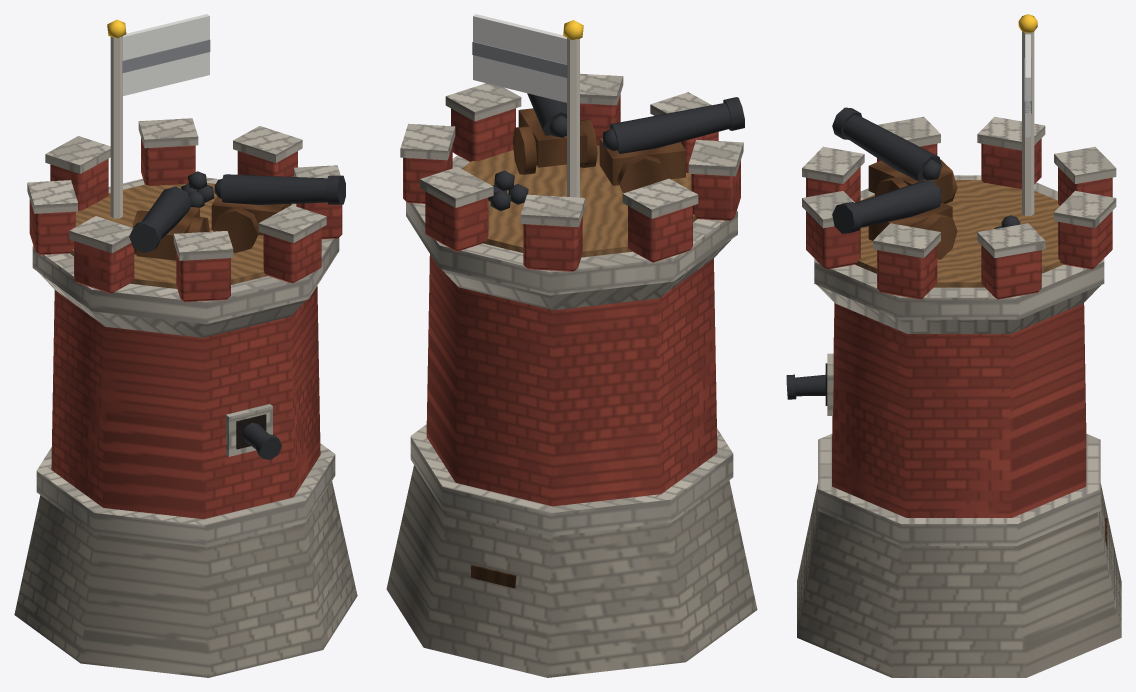
Rendered from tower_l4.glb.
3 renders of one model, left to right at view 1: azimuth 30°, elevation 25°; view 2: azimuth 150°, elevation 25°; view 3: azimuth 270°, elevation 25°, orthographic. The views are drawn at different scales.
Visible parts, largest first — view 1: tower_l4; view 2: tower_l4; view 3: tower_l4.
Part boxes in pixels (x1=…): tower_l4: x1=14, y1=14, x2=357, y2=677; tower_l4: x1=386, y1=14, x2=757, y2=677; tower_l4: x1=786, y1=14, x2=1121, y2=677.
Size of the model in its own units: 0.4712 by 0.926 by 0.4865.
1 material, 1 textured.
